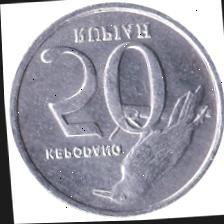coin_50_1999: (10, 1, 224, 215)
